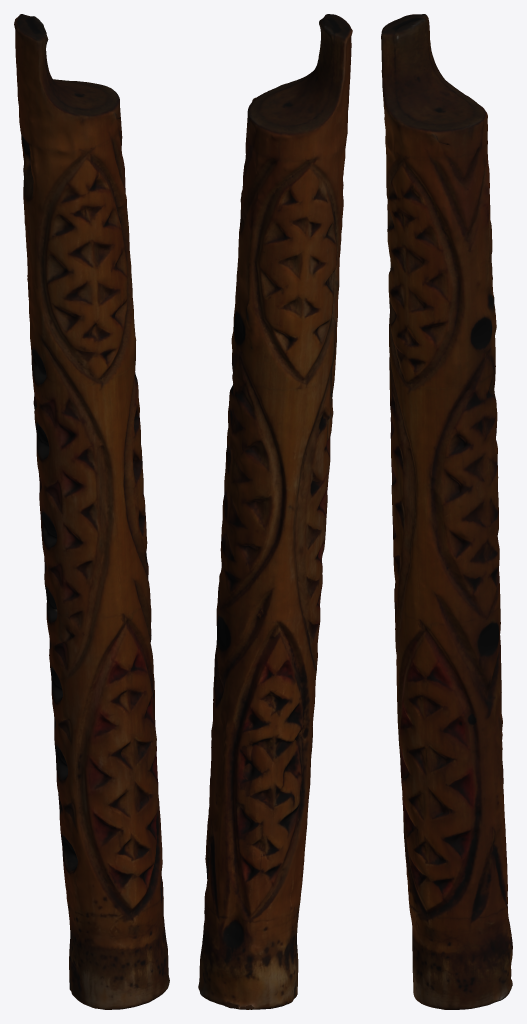
The model's file is tusk-200k-2048-medium.glb.
The picture shows the model from 3 angles, left to right: view 1: azimuth 30°, elevation 25°; view 2: azimuth 210°, elevation 25°; view 3: azimuth 330°, elevation 25°; orthographic projection. The views are drawn at different scales.
Parts seen in each view (by area): view 1: Mesh_0; view 2: Mesh_0; view 3: Mesh_0.
Boxes of the visible parts, box(x1,y1,x2,y2) form: Mesh_0: box(14, 14, 169, 1009); Mesh_0: box(198, 14, 352, 1009); Mesh_0: box(381, 14, 512, 1009).
Size of the model in its own units: 0.0357 by 0.2508 by 0.0289.
Materials: 2 (2 with a texture image).
